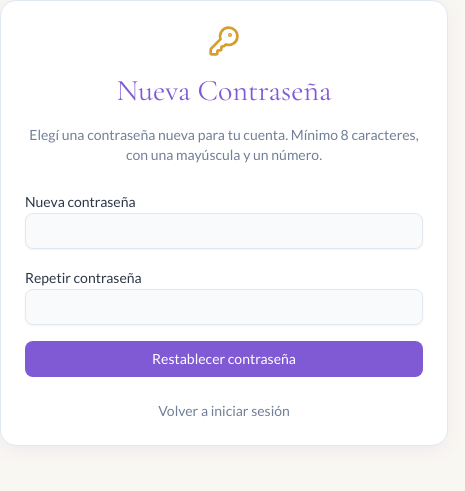
Test: ResetPasswordForm › Validación › should reject when the confirmation does not match
Type "NuevaPass123" into the password field labelled "Nueva contraseña" at (224, 231), box [25, 213, 423, 249]
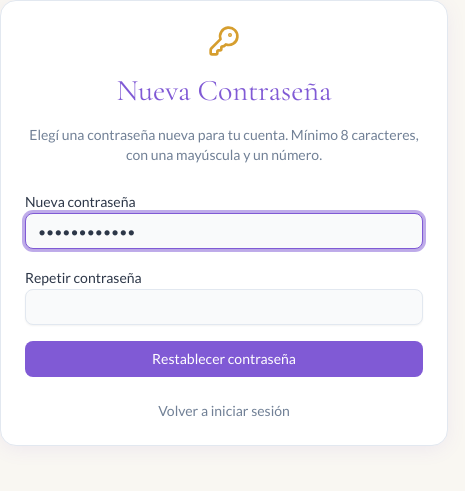
Type "OtraPass123" into the password field labelled "Repetir contraseña" at (224, 307), box [25, 289, 423, 325]
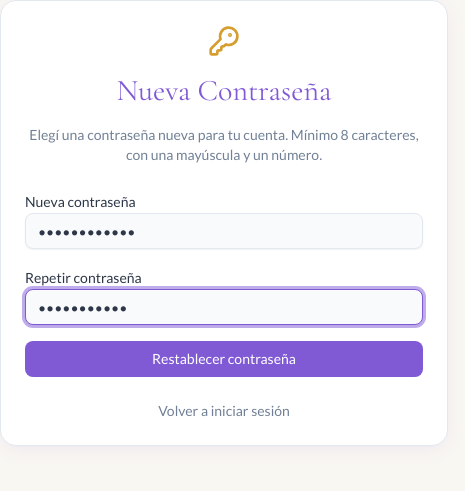
Click the button "Restablecer contraseña" at (224, 359), box [25, 341, 423, 377]
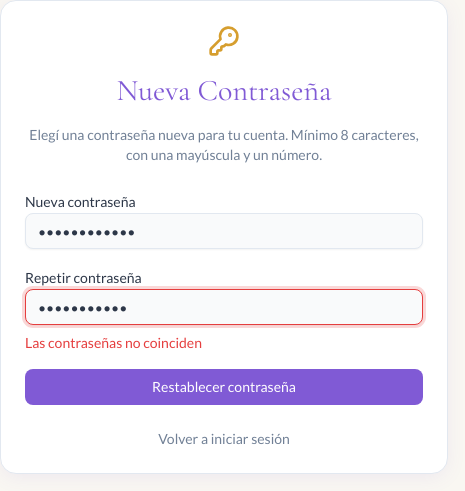
Expected: the text "Las contraseñas no coinciden" is shown, [25, 334, 202, 351]
